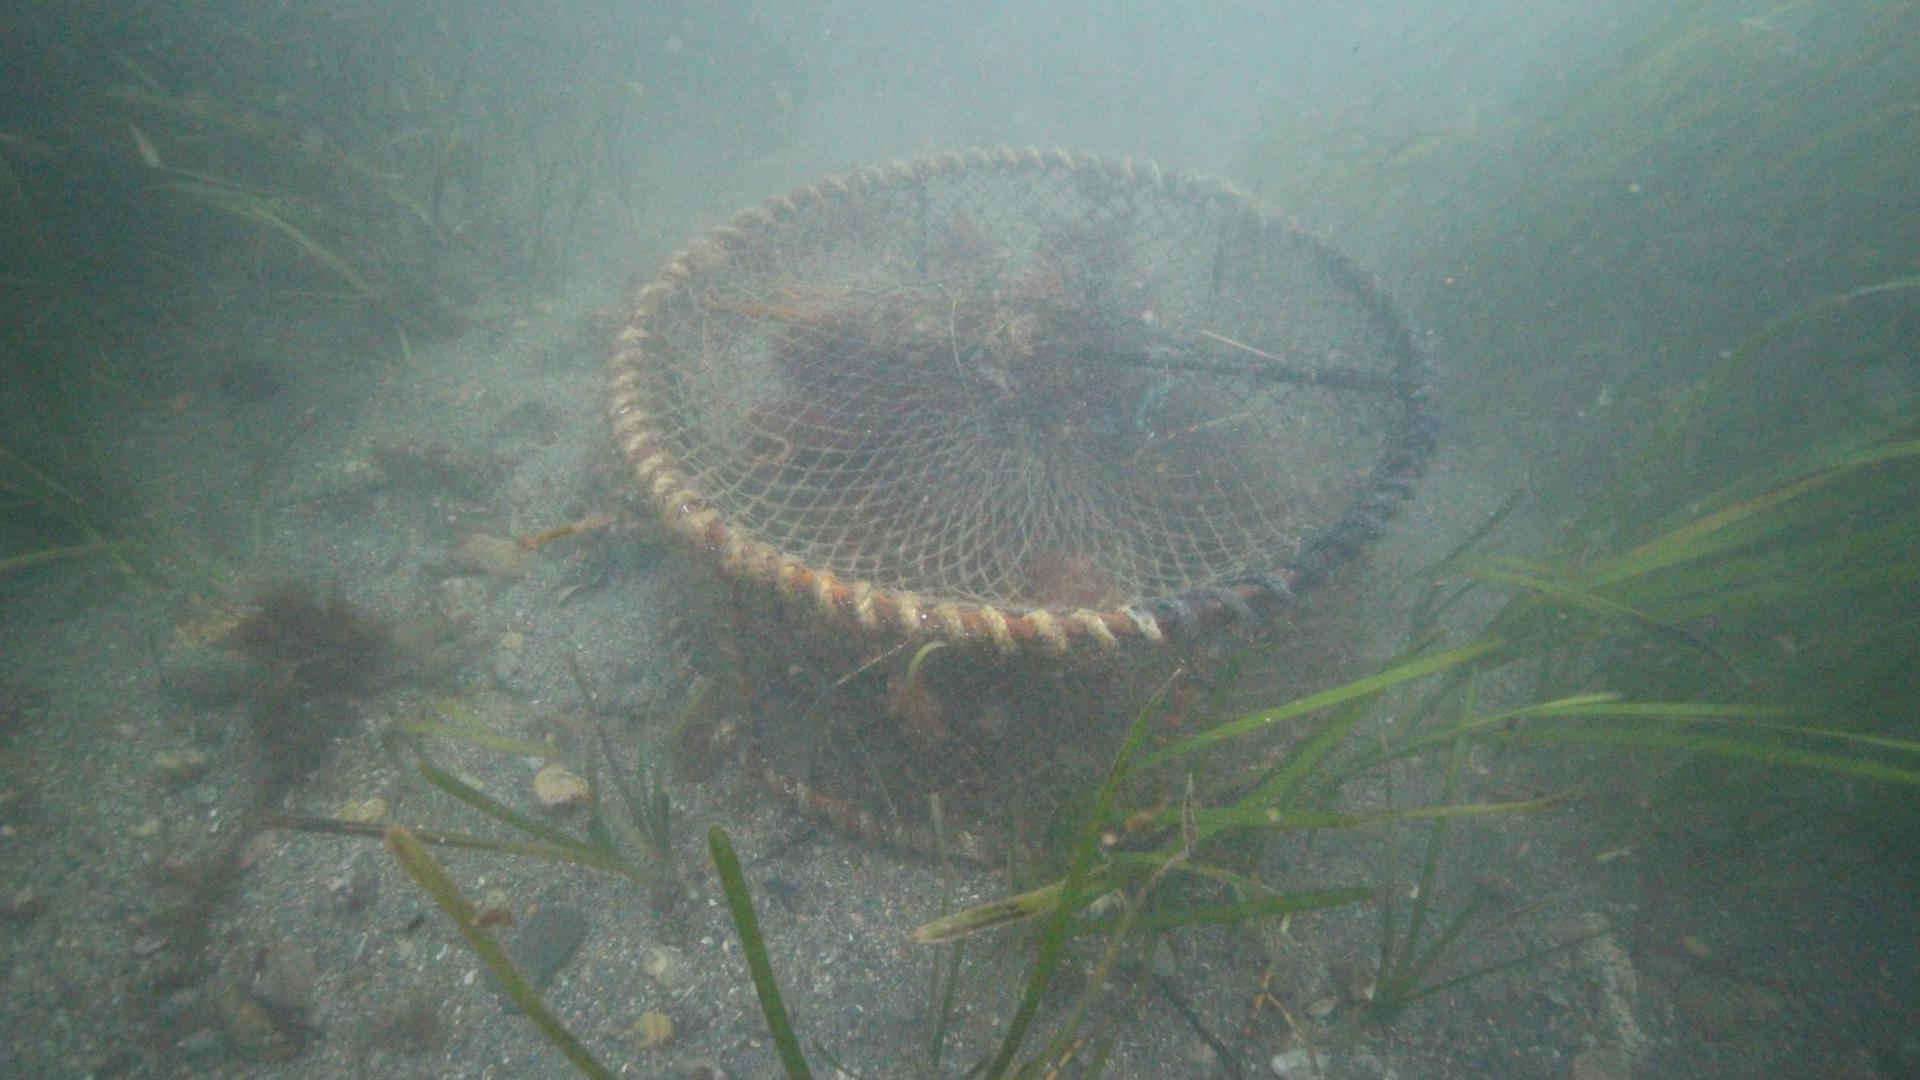circular fish trap: (603, 138, 1443, 866)
